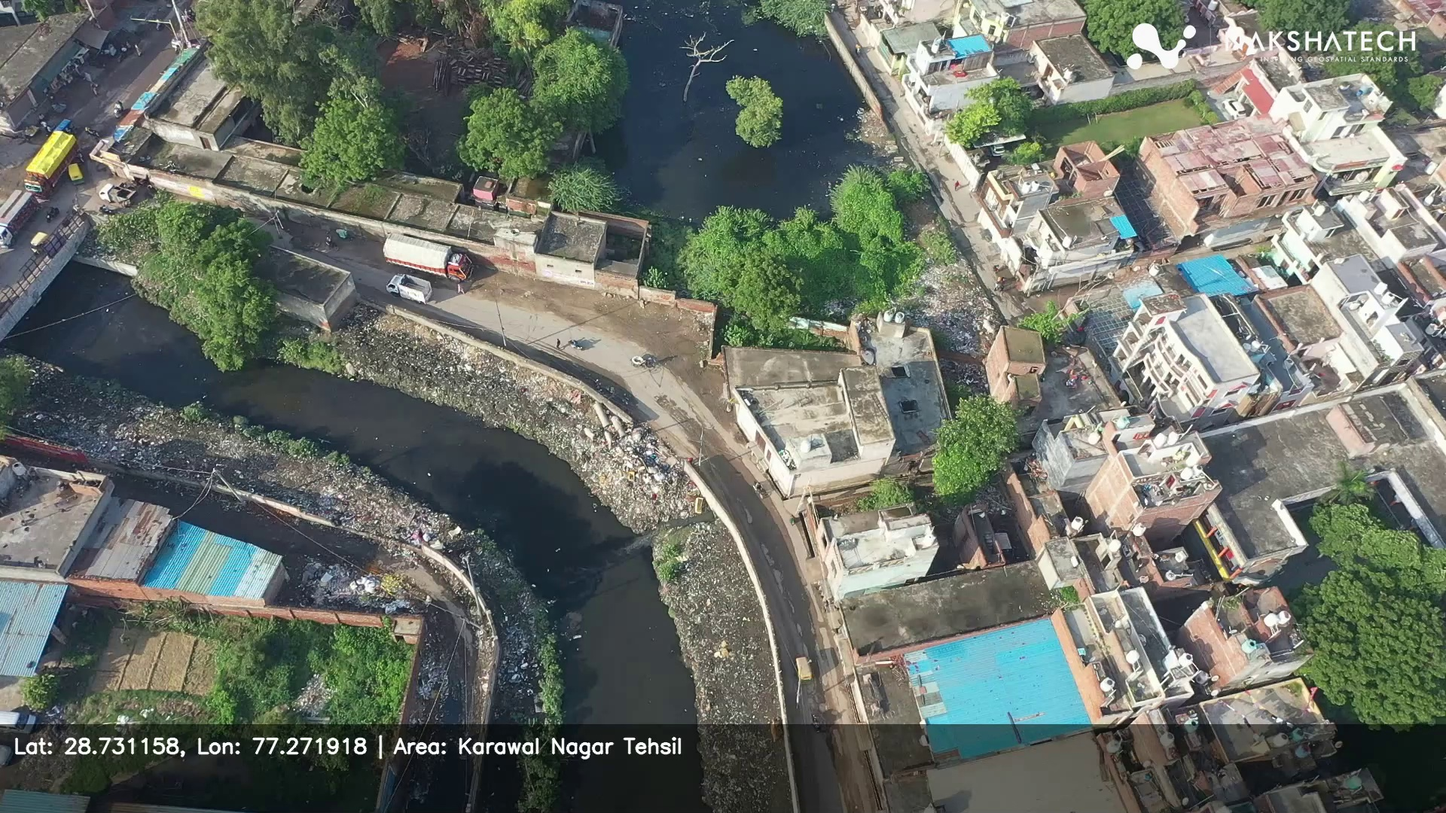drainage connection: (572, 482, 732, 577)
